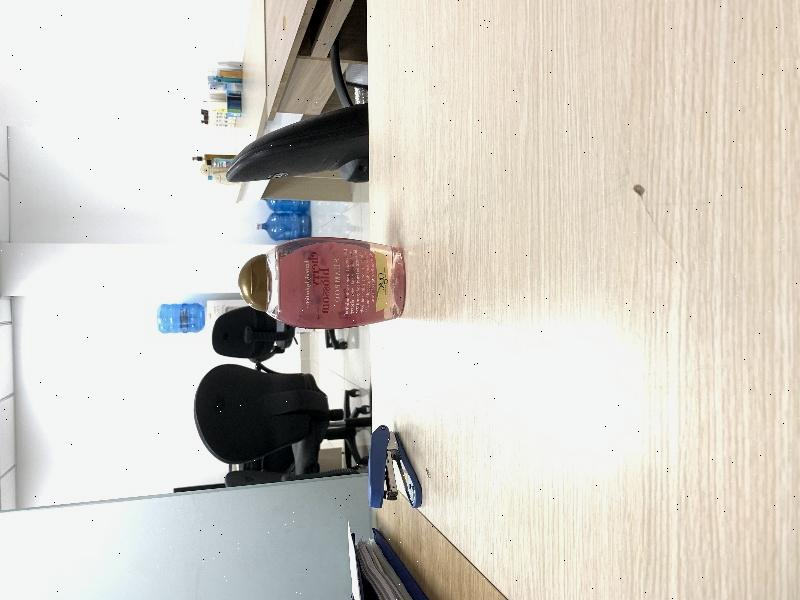CherryBlossom_Shampoo: (238, 237, 406, 329)
